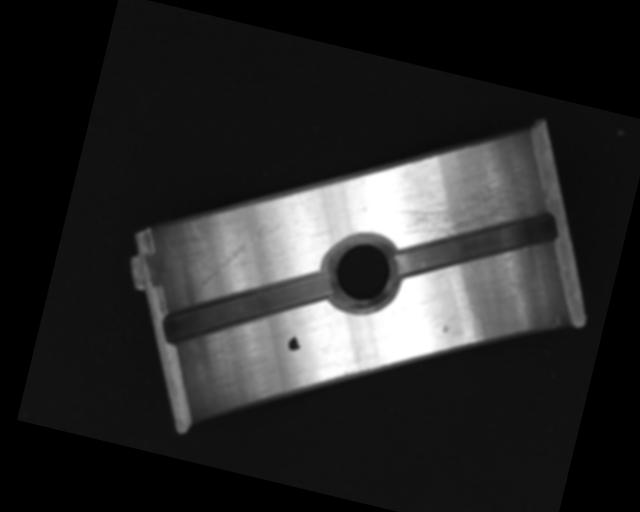blot: (286, 334, 303, 353)
bruise: (441, 323, 450, 334)
gap: (158, 238, 333, 377), (392, 181, 560, 309)
hole: (318, 226, 406, 318)
nick: (196, 208, 281, 303)
scratch: (381, 137, 546, 265)
